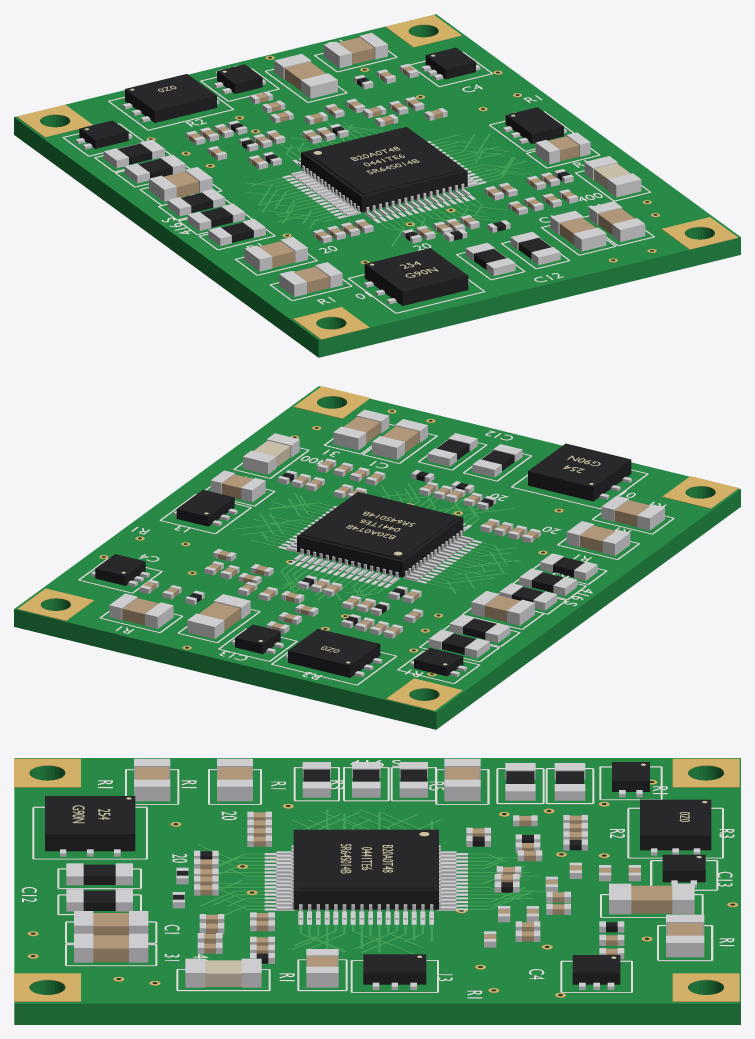
File: semicon.glb
3 views of the same model, one above another, from view 1: azimuth 30°, elevation 25°; view 2: azimuth 150°, elevation 25°; view 3: azimuth 270°, elevation 25° (orthographic). The views are drawn at different scales.
Visible parts, largest first — view 1: PCB_Board, PCB_silver, PCB_plastic, PCB_tan, PCB_gold, PCB_silk, PCB_trace, IC_254_plastic, IC_0Z0_plastic, IC_13_plastic, IC_C4_plastic, Cap_R5_silver (+1 smaller); view 2: PCB_Board, PCB_silver, PCB_plastic, PCB_tan, PCB_gold, PCB_silk, PCB_trace, IC_254_plastic, IC_0Z0_plastic, IC_13_plastic, IC_C4_plastic, Cap_R5_silver (+1 smaller); view 3: PCB_Board, PCB_silver, PCB_plastic, PCB_tan, PCB_gold, PCB_silk, PCB_trace, IC_254_plastic, IC_0Z0_plastic, IC_13_plastic, IC_C4_plastic, Cap_R5_silver (+1 smaller).
Part boxes in pixels (box(x1,y1,x2,y2)): PCB_Board: box(14, 14, 740, 357); PCB_silver: box(75, 32, 645, 296); PCB_plastic: box(79, 64, 569, 269); PCB_tan: box(189, 37, 634, 293); PCB_gold: box(17, 15, 738, 339); PCB_silk: box(62, 50, 654, 313); PCB_trace: box(245, 121, 533, 247); IC_254_plastic: box(364, 248, 468, 305); IC_0Z0_plastic: box(125, 74, 216, 122); IC_13_plastic: box(505, 107, 563, 143); IC_C4_plastic: box(425, 47, 475, 79); Cap_R5_silver: box(149, 167, 212, 201); PCB_Board: box(14, 386, 740, 729); PCB_silver: box(109, 409, 664, 676); PCB_plastic: box(189, 439, 584, 676); PCB_tan: box(122, 416, 650, 636); PCB_gold: box(17, 386, 738, 710); PCB_silk: box(78, 424, 674, 685); PCB_trace: box(232, 483, 520, 600); IC_254_plastic: box(528, 443, 631, 501); IC_0Z0_plastic: box(288, 629, 380, 677); IC_13_plastic: box(176, 489, 234, 526); IC_C4_plastic: box(95, 554, 145, 585); Cap_R5_silver: box(471, 591, 534, 625); PCB_Board: box(14, 758, 740, 1024); PCB_silver: box(66, 758, 704, 987); PCB_plastic: box(83, 762, 705, 963); PCB_tan: box(93, 767, 702, 966); PCB_gold: box(14, 758, 739, 1001); PCB_silk: box(32, 766, 723, 992); PCB_trace: box(197, 809, 544, 954); IC_254_plastic: box(45, 796, 135, 851); IC_0Z0_plastic: box(640, 799, 711, 850); IC_13_plastic: box(363, 954, 426, 984); IC_C4_plastic: box(572, 955, 620, 984); Cap_R5_silver: box(444, 758, 480, 801).
Size of what is drawn, in the model's own units: 40 by 3.39 by 50.03.
